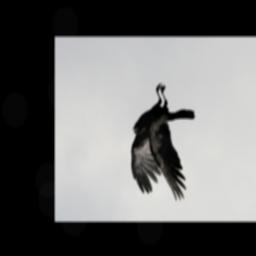Crow: (129, 80, 195, 202)
